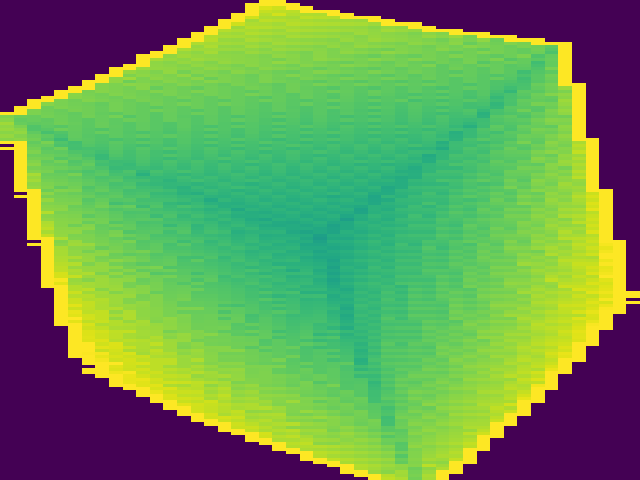cube: (1, 1, 640, 479)
